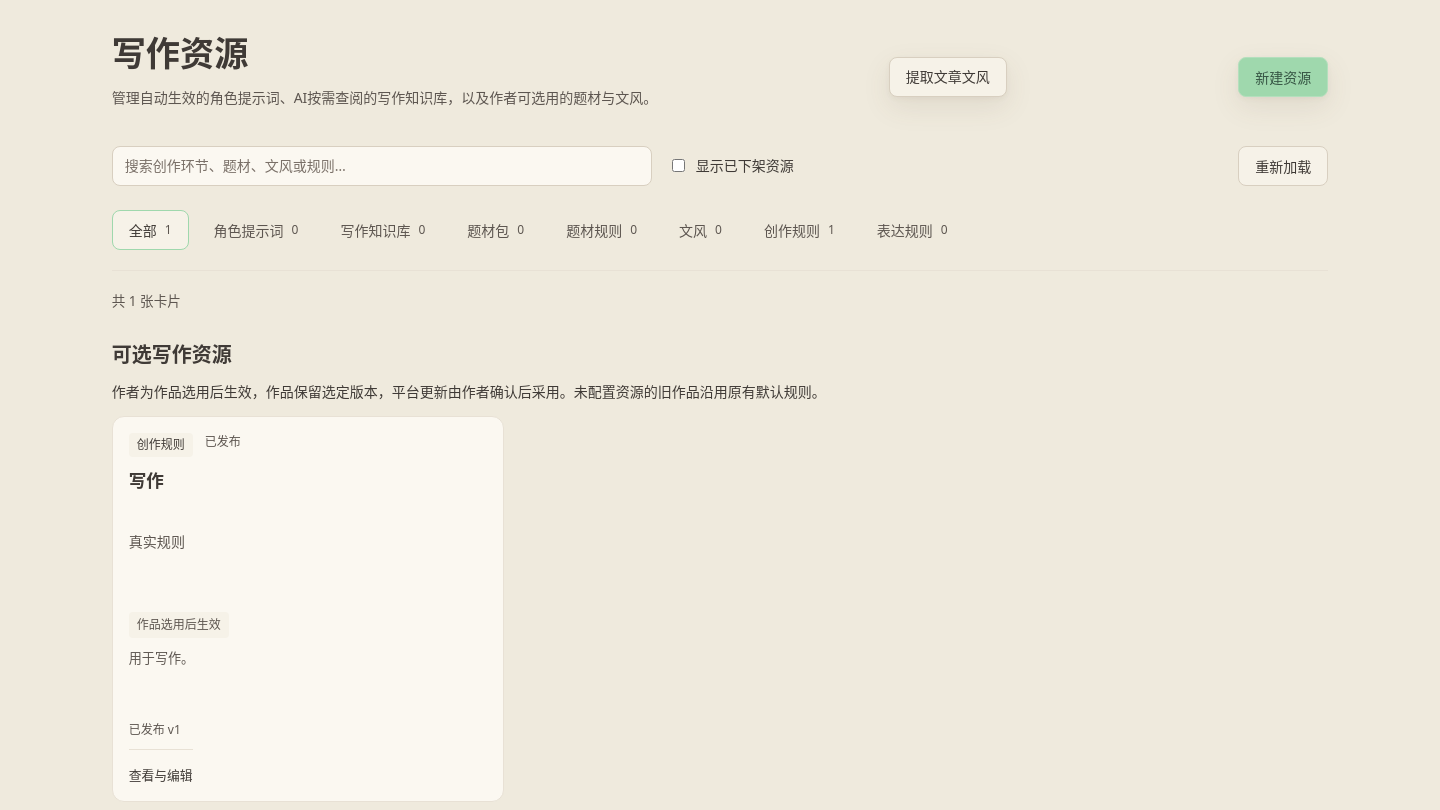
Test: keeps an archive conflict reviewable without discarding edited fields
Click the button with aria-label "编辑 写作". click: click(308, 609)
box: top-left (112, 416), bottom-right (504, 802)
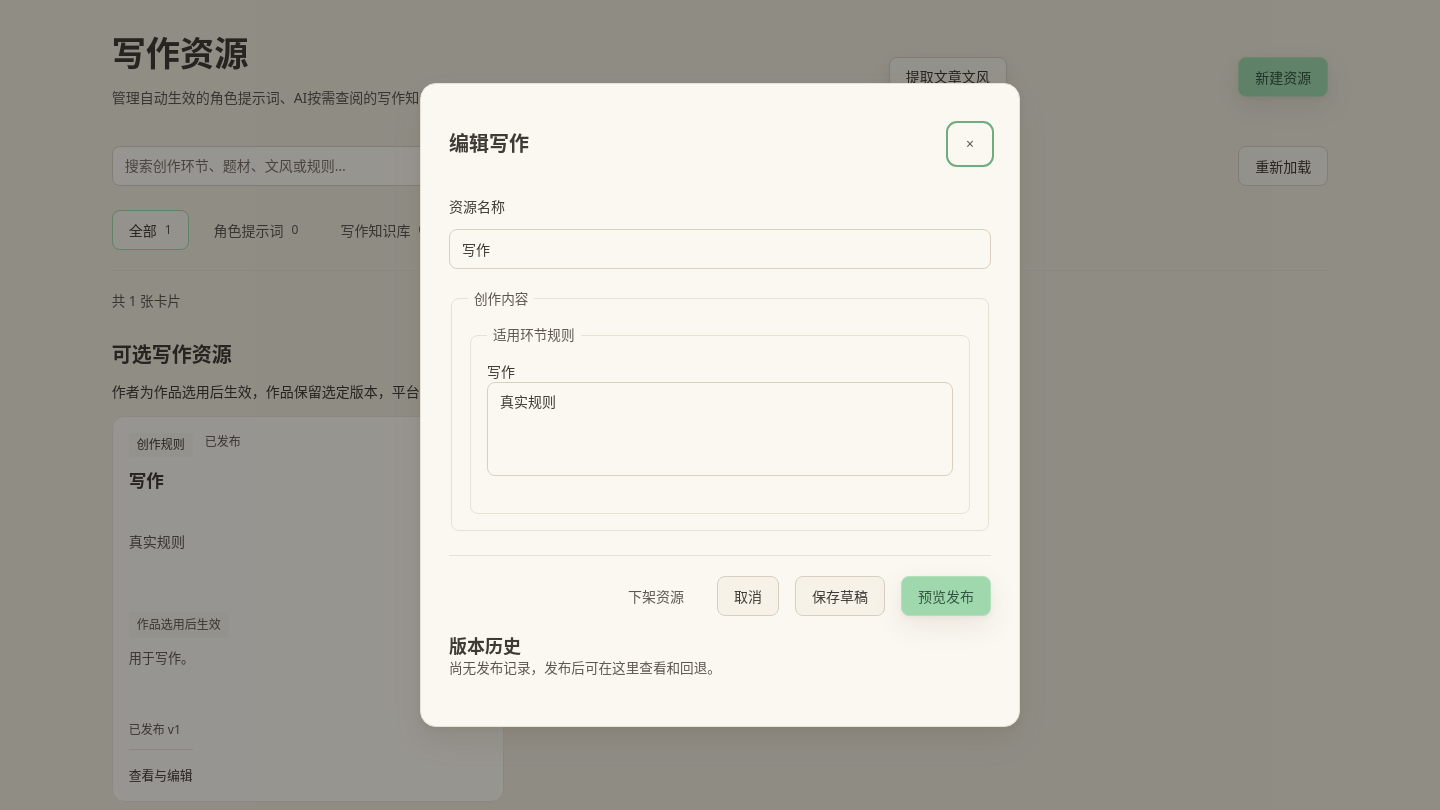
Replace the text in the field labelled "资源名称" with "未保存的草稿". click: (720, 249)
box: top-left (449, 229), bottom-right (991, 269)
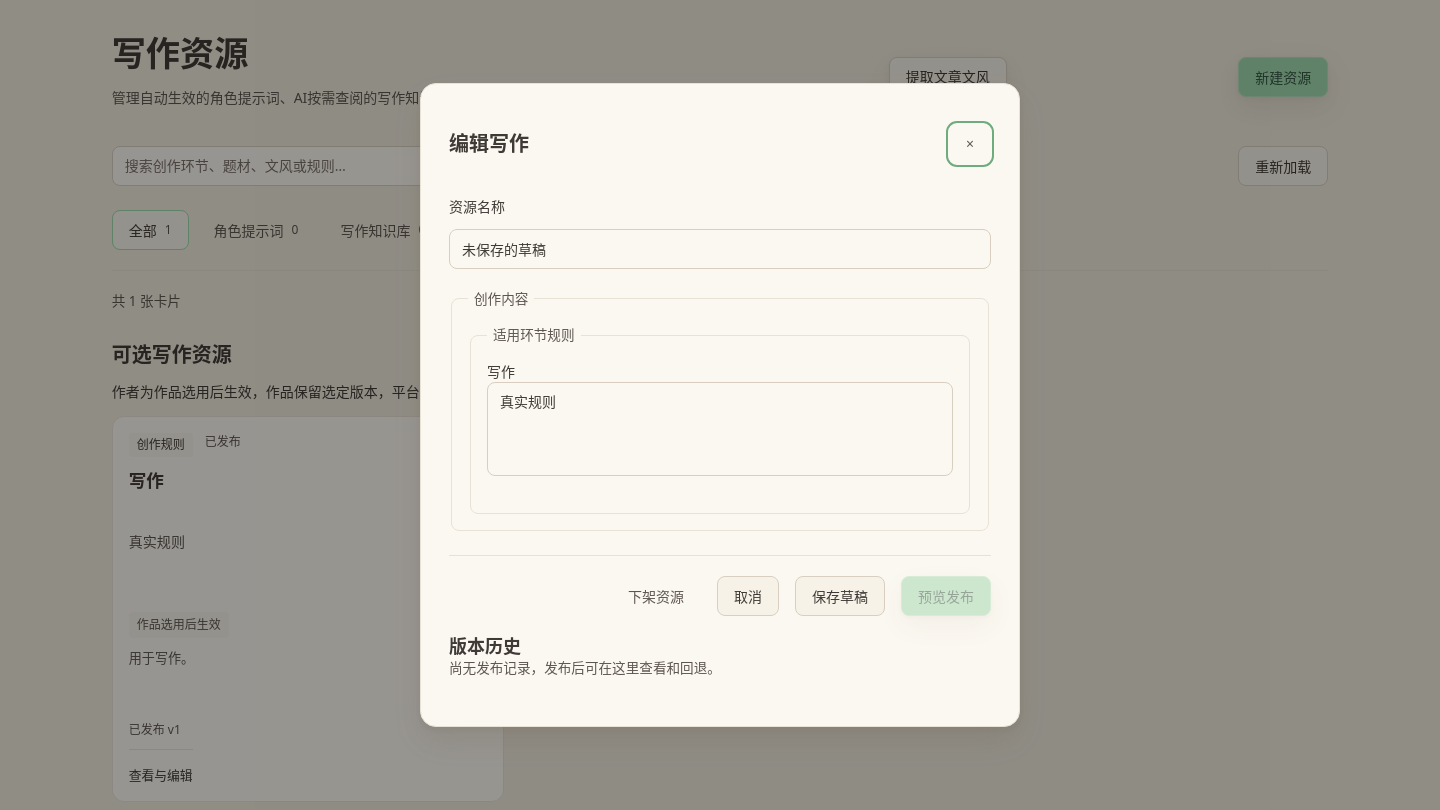
Click the button "下架资源". click: click(656, 596)
box: top-left (611, 576), bottom-right (701, 616)
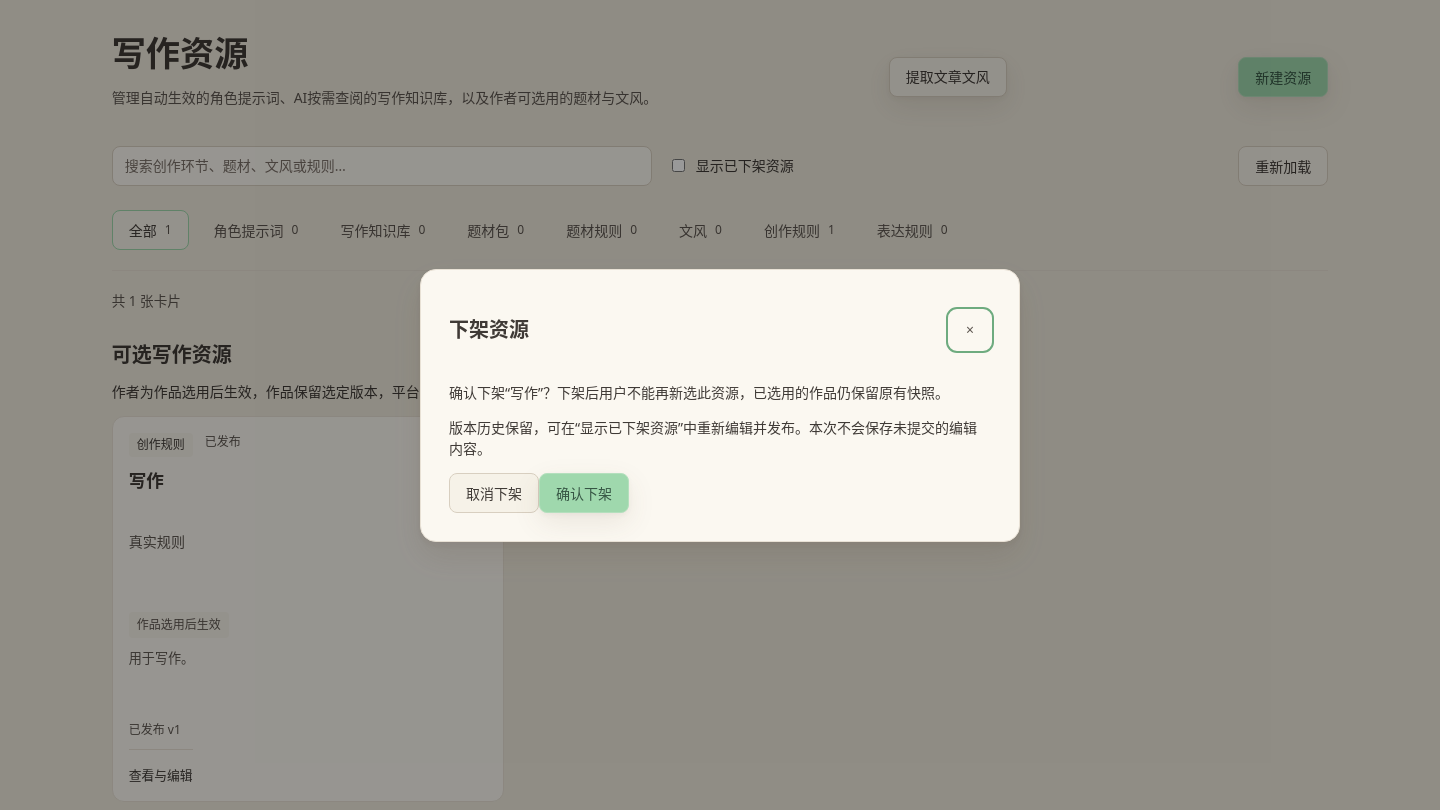
Click the button "确认下架". click: click(584, 492)
box: top-left (539, 472), bottom-right (629, 512)
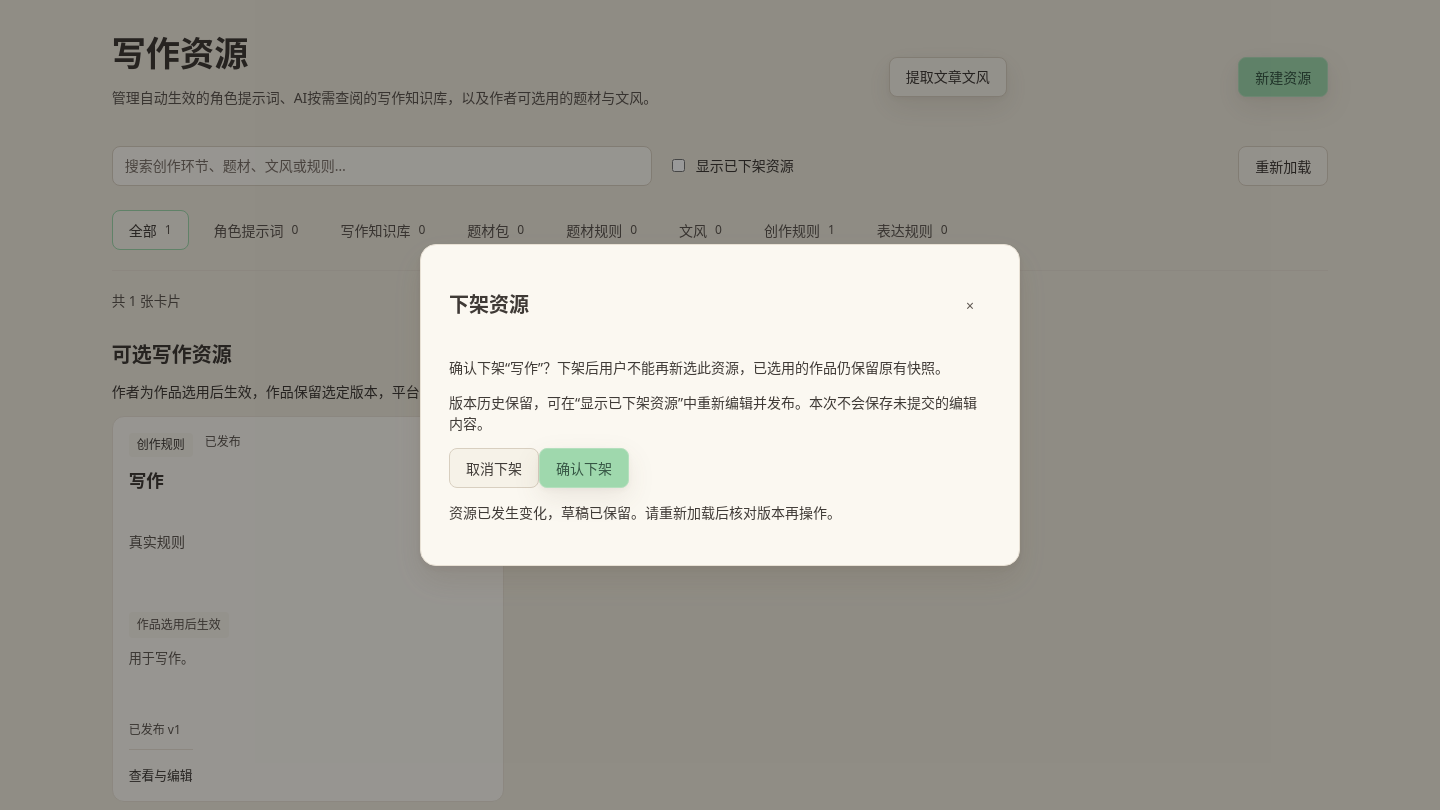
Expected: the text "资源已发生变化，草稿已保留。请重新加载后核对版本再操作。" is shown, top-left (449, 503), bottom-right (841, 522)
Click the button "取消下架". click: click(494, 468)
box: top-left (449, 448), bottom-right (539, 488)
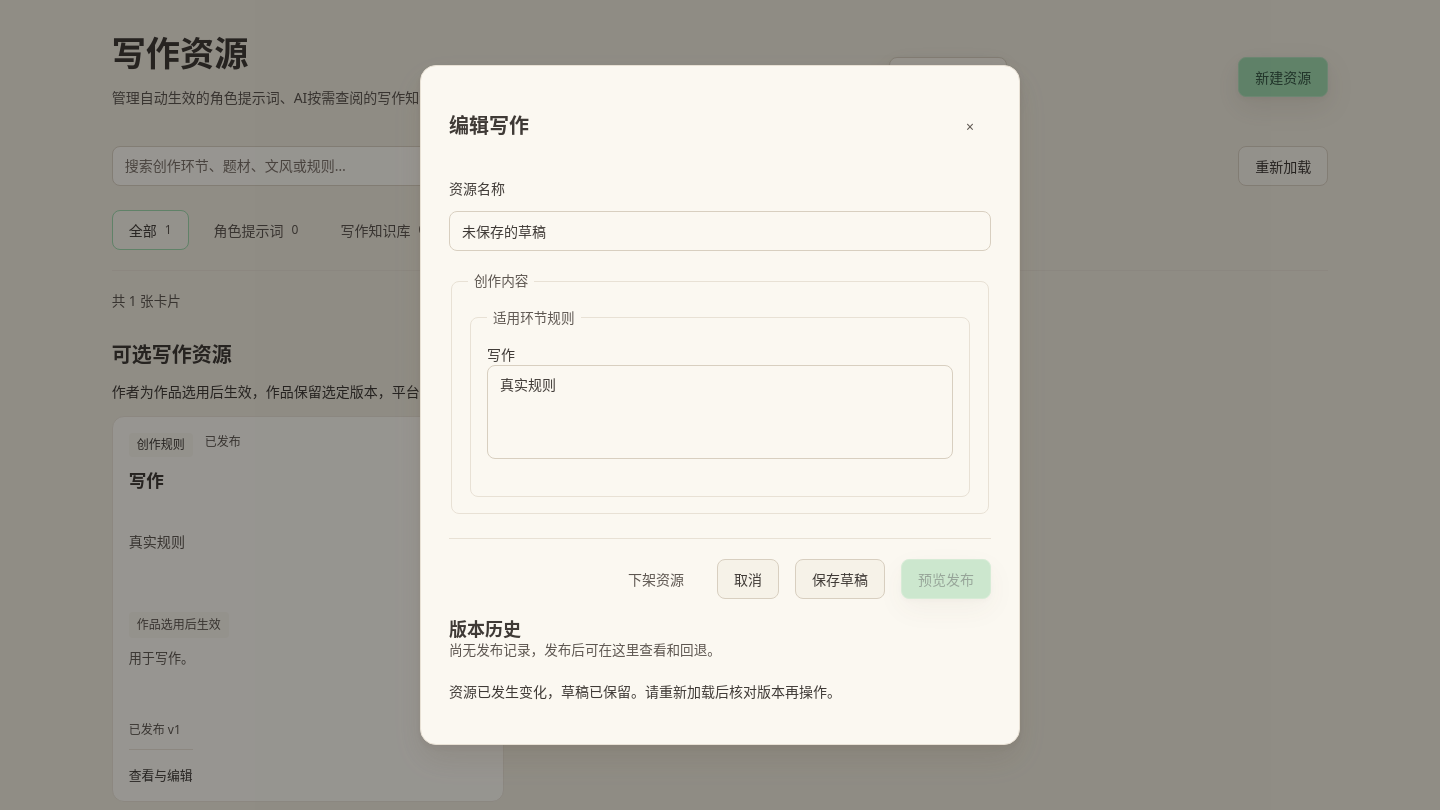
Expected: the field labelled "资源名称" holds "未保存的草稿", top-left (449, 211), bottom-right (991, 251)
